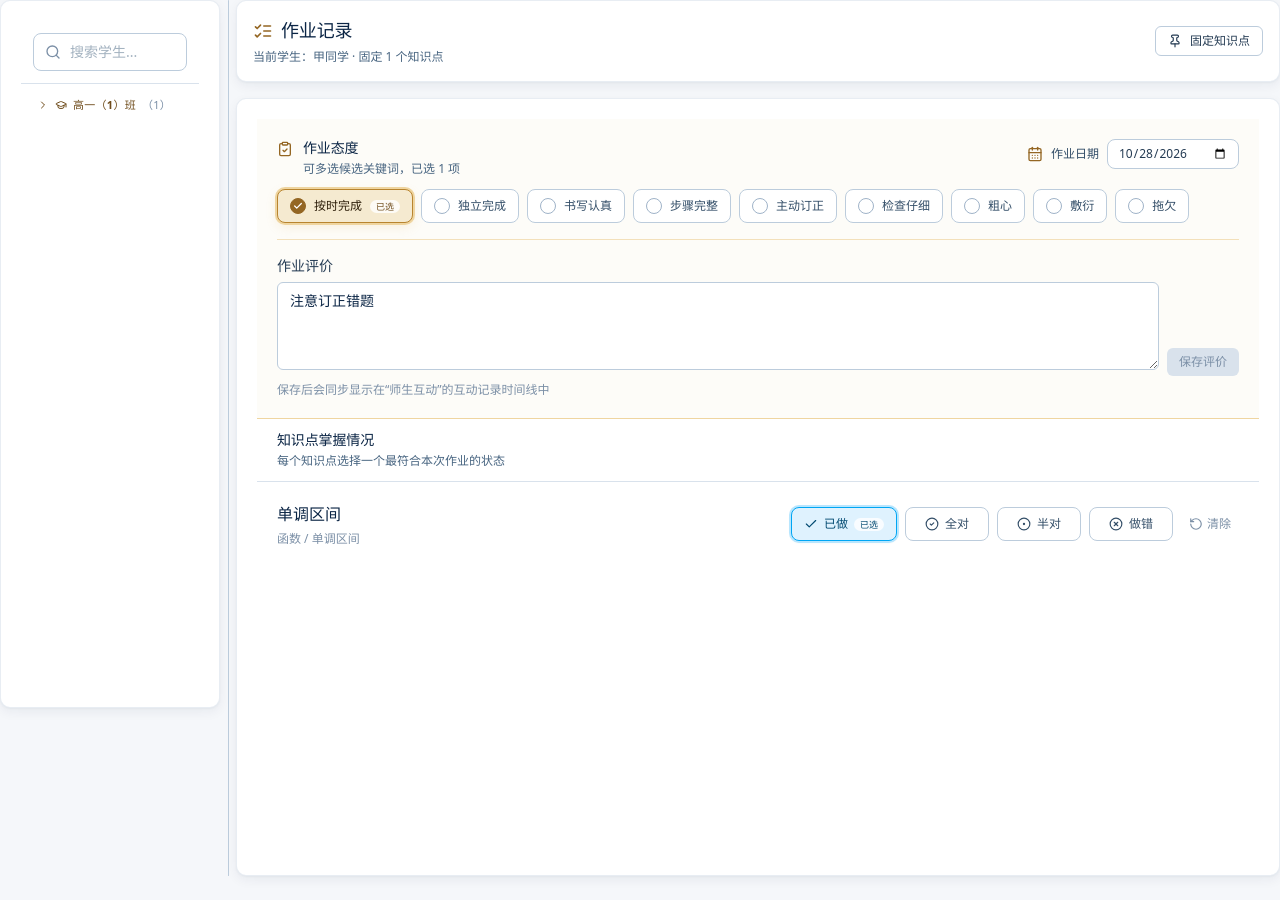
Test: StudentHomeworkRecordPage › shows the class homework overview and saves attendance for the whole class
Click the button "高一（1）班 （1）" at (110, 105), box [33,92,187,118]
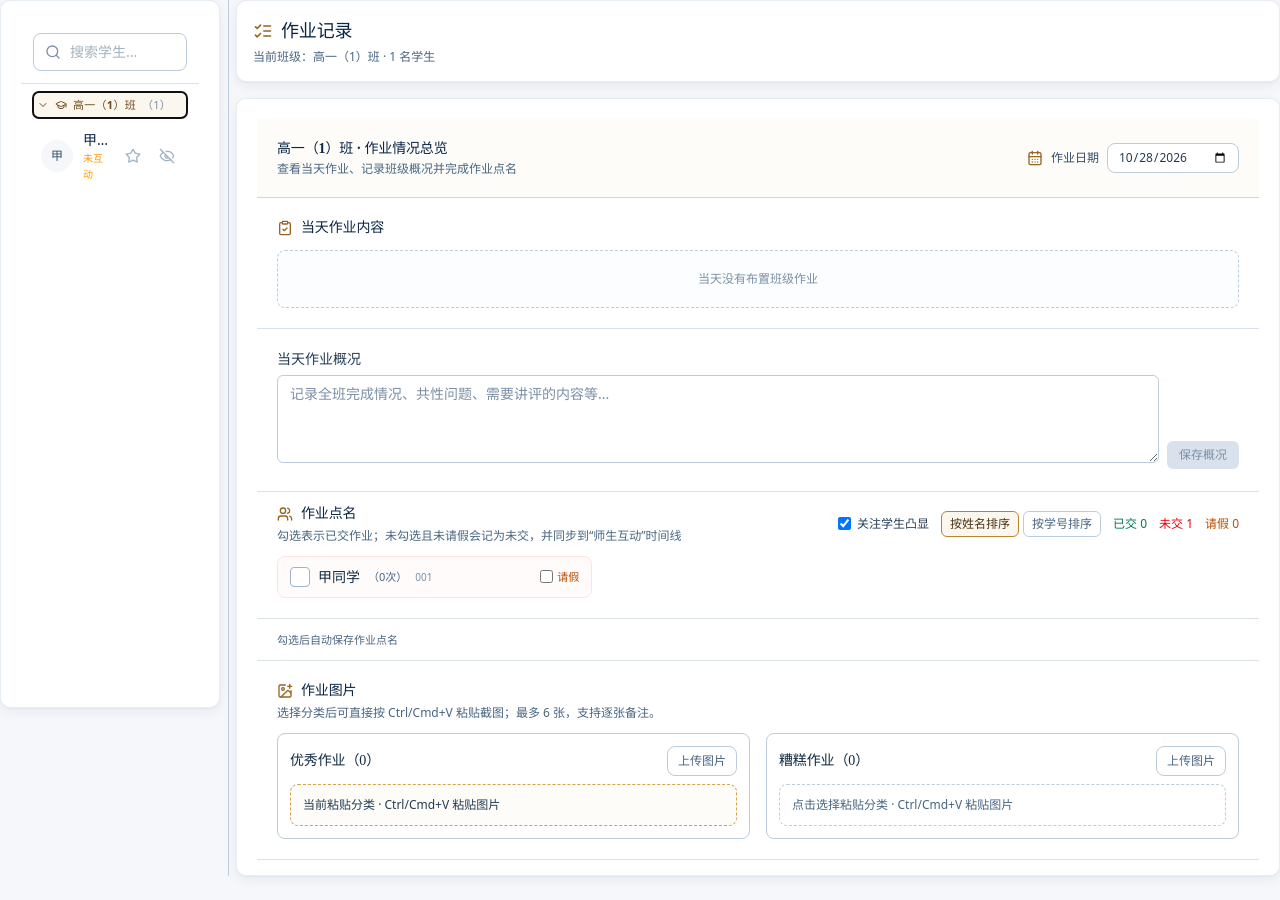
Expected: the heading "高一（1）班 · 作业情况总览" is shown, [277,141,448,156]
Expected: the heading "当天作业内容" is shown, [301,218,384,238]
Expected: the heading "作业点名" is shown, [301,504,356,524]
Click the checkbox named "甲同学已交作业" at (361, 577), box [290,567,432,587]
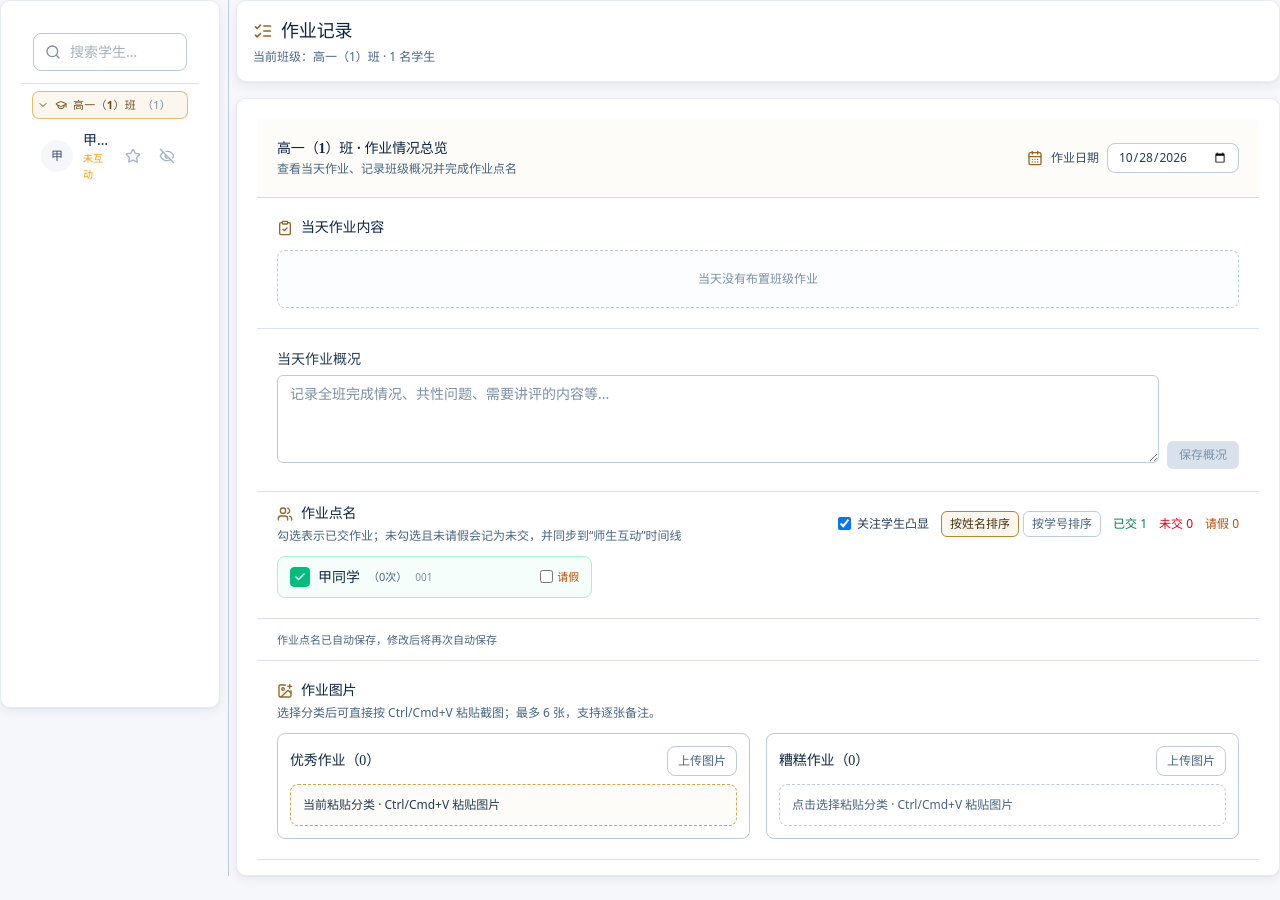
Expected: the message "保存作业点名" is gone
